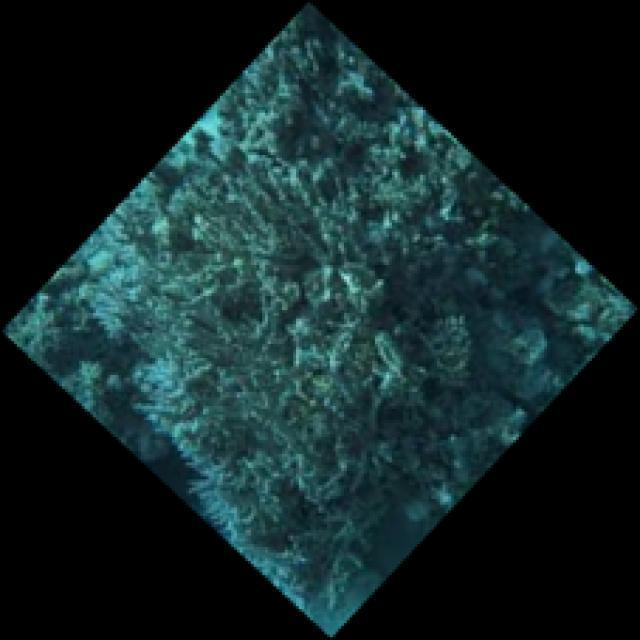Dead Coral: (166, 147, 426, 537)
